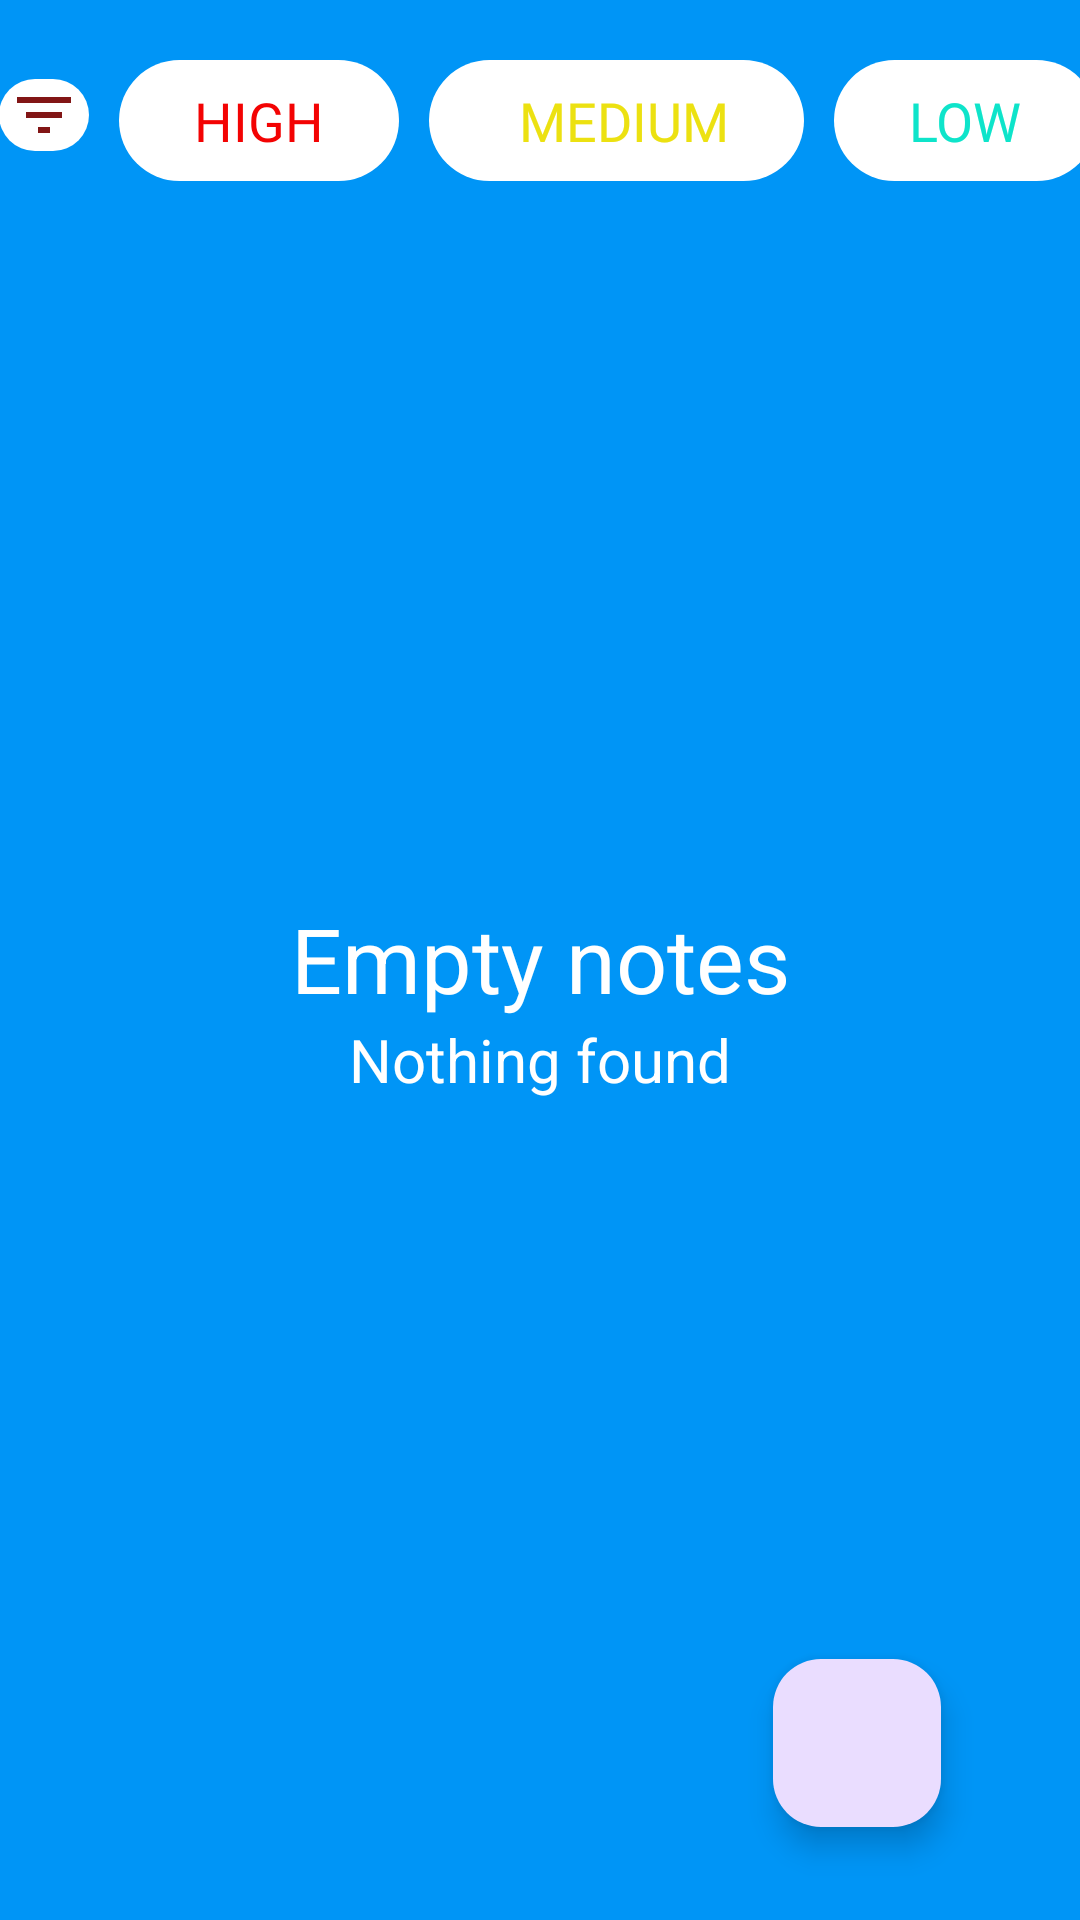

Icons on this 1080×1920 Android screen, each with its box as bbox(x1, y1, x2, y2):
filter: bbox(0, 79, 89, 151)
